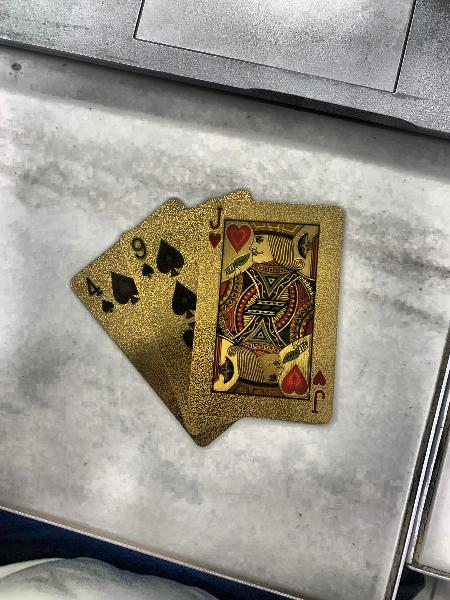4P: (75, 272, 120, 318)
9P: (127, 230, 159, 281)
JC: (304, 363, 331, 421), (208, 203, 229, 250)
